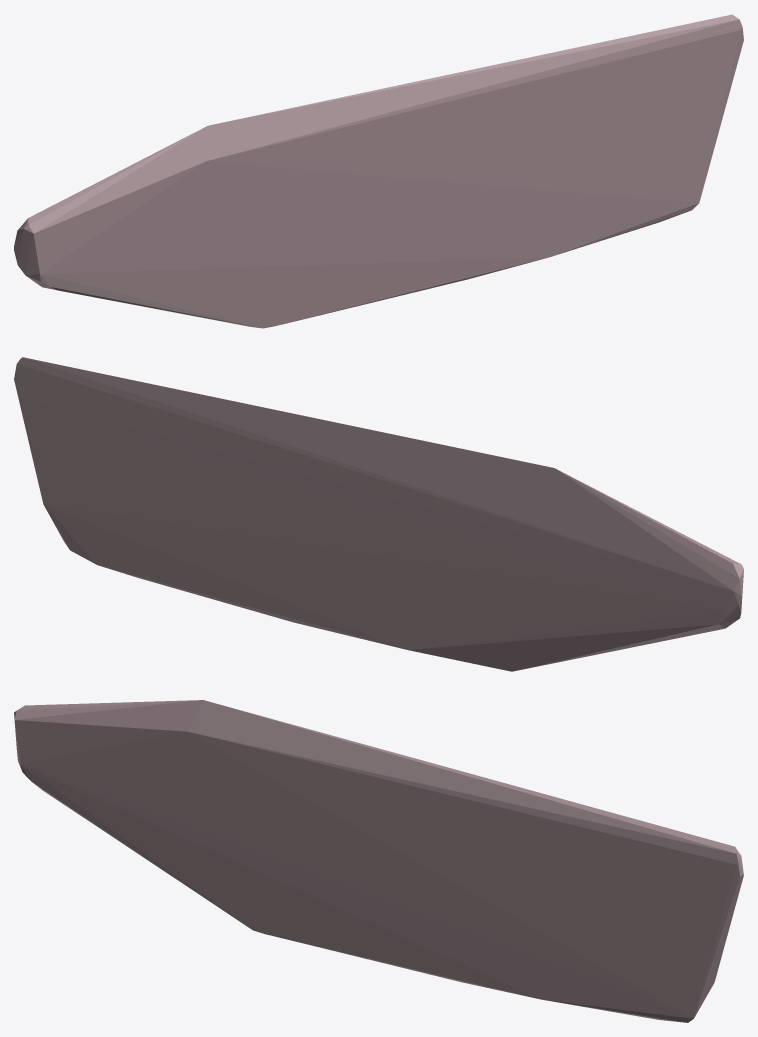
File: instrument_handsaw_a01.glb
3 views of the same model, one above another, from view 1: azimuth 30°, elevation 25°; view 2: azimuth 150°, elevation 25°; view 3: azimuth 330°, elevation 25° (orthographic).
Visible parts, largest first — view 1: geometry_0; view 2: geometry_0; view 3: geometry_0.
Boxes of the visible parts, box(x1,y1,x2,y2) form: geometry_0: box(14, 14, 743, 328); geometry_0: box(14, 357, 743, 671); geometry_0: box(14, 700, 743, 1022).
Size of the model in its own units: 0.4779 by 0.1358 by 0.0143.
